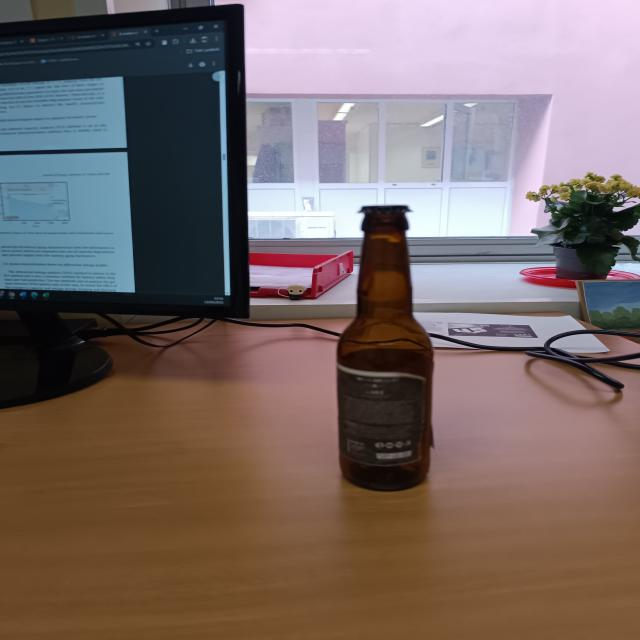Bottle: (334, 202, 438, 495)
Cap: (356, 201, 413, 216)
Label: (337, 364, 432, 465)
